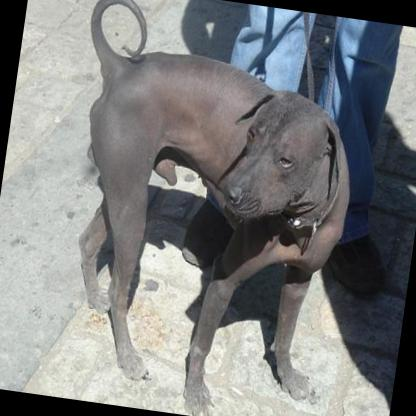Mexican_hairless: (37, 0, 371, 416)
